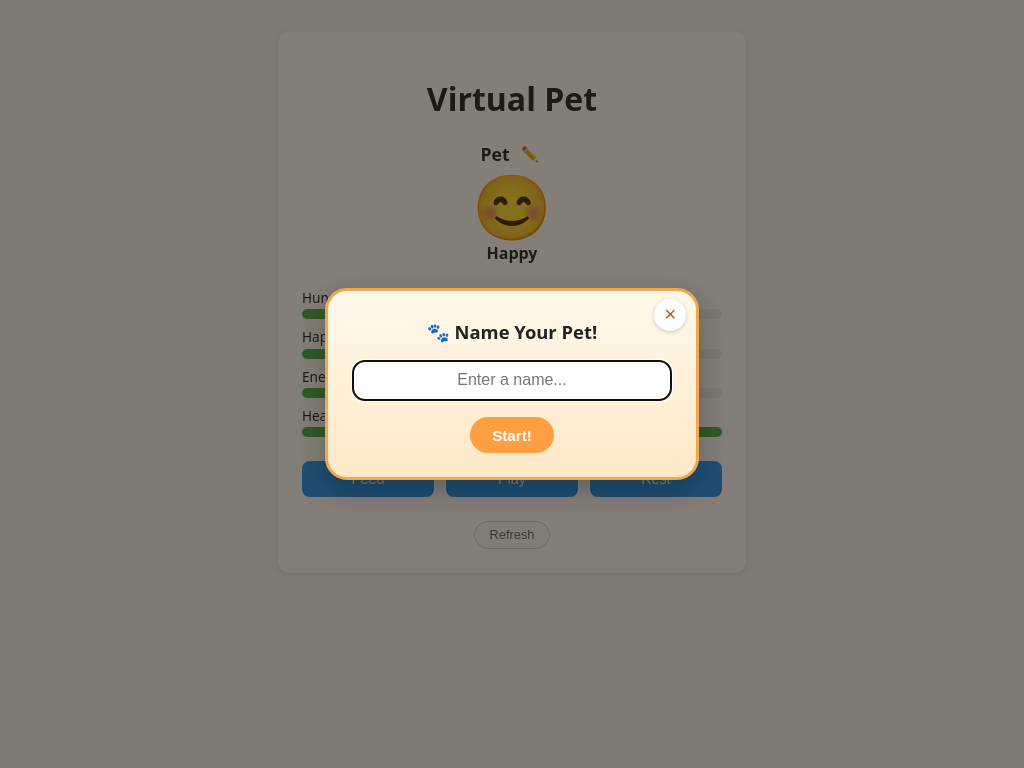
Scenario: App - first-launch naming › submitting an empty name shows an inline error and keeps the prompt open
Click the button with test id "name-dialog-save-button". click: (512, 435)
box: [470, 417, 554, 453]
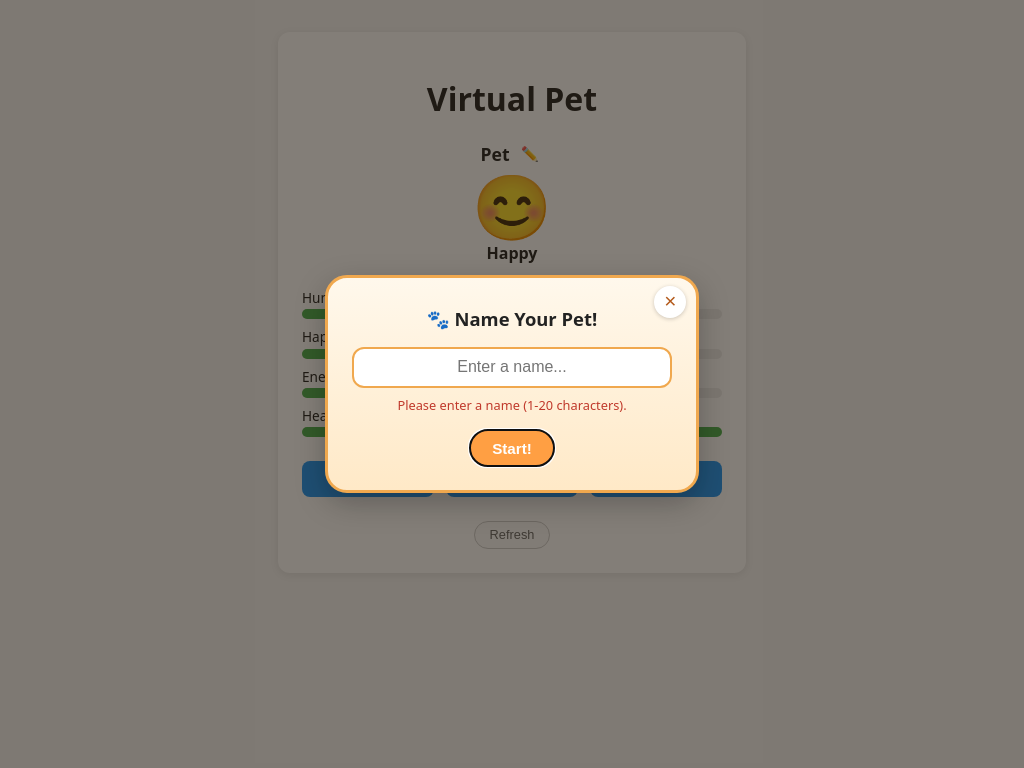
Expected: the dialog with test id "name-dialog" is shown, [325, 275, 699, 493]
Expected: the text "Please enter a name (1-20 characters)." is shown, [397, 396, 627, 414]
